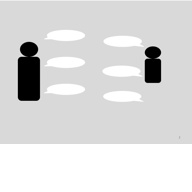left_speech: (41, 79, 87, 99), (42, 26, 88, 44), (41, 53, 86, 71)
right_speech: (100, 30, 145, 49), (101, 87, 145, 106), (99, 62, 144, 80)
